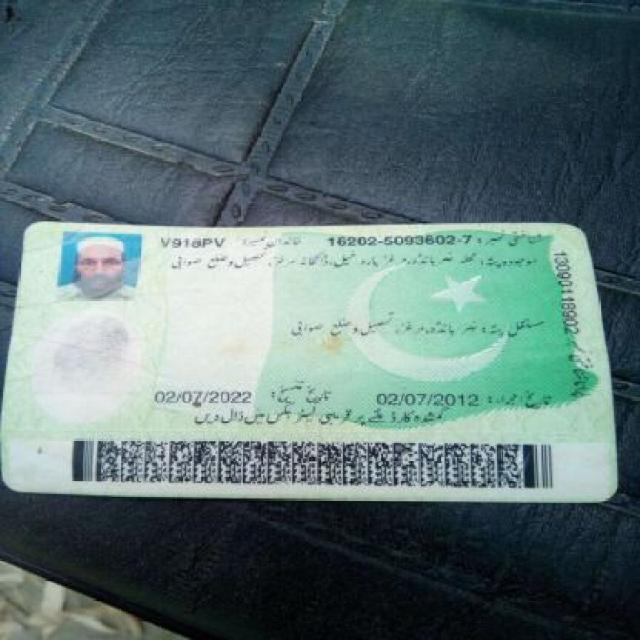Back: (10, 214, 612, 503)
